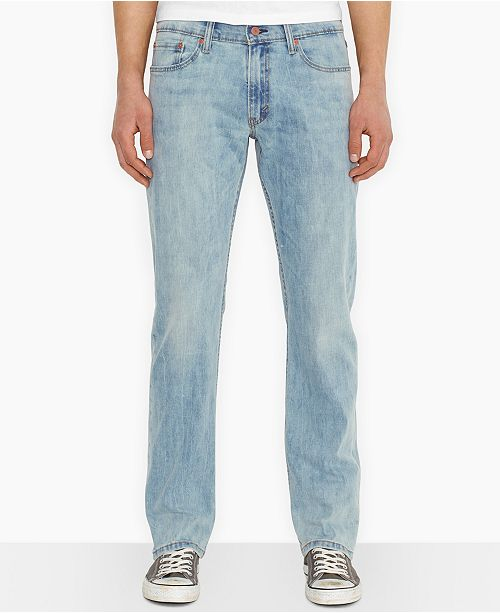Jeans: (133, 16, 369, 553)
